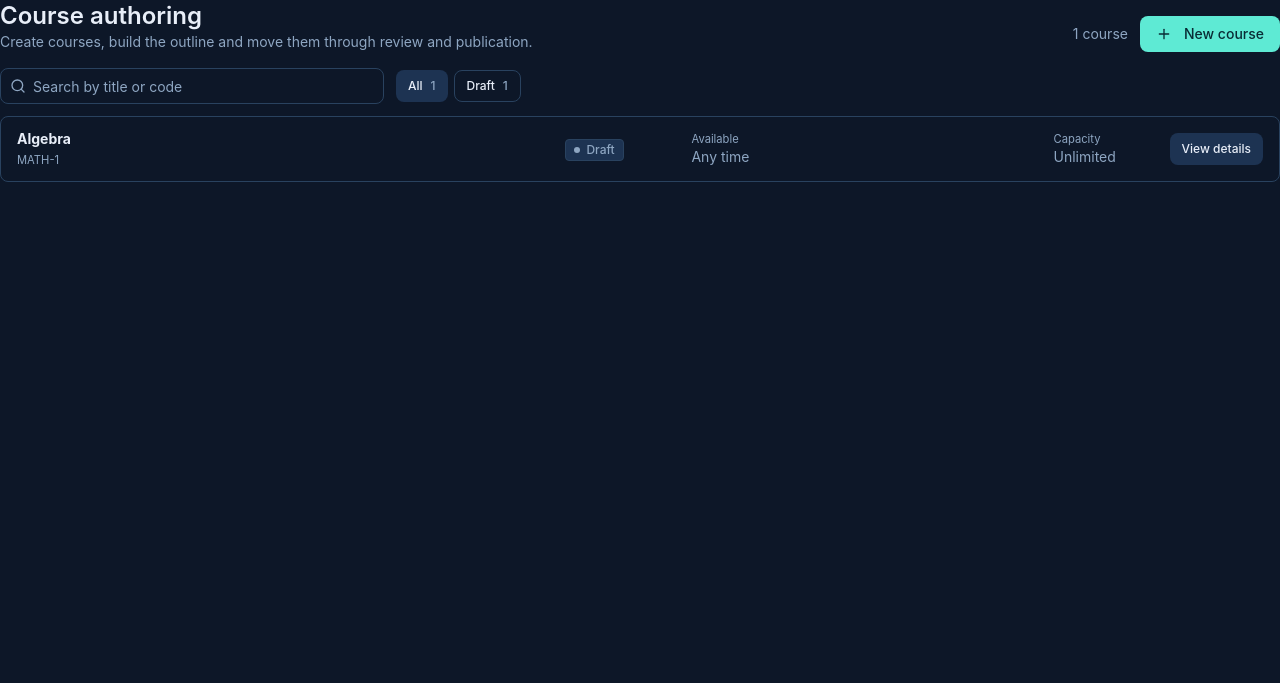
Test: CoursesPage authoring › holds back submission while the outline is incomplete
The width and height of the screenshot is (1280, 683).
Click the button with aria-label "View details for Algebra" at (1216, 149), box [1170, 133, 1263, 165]
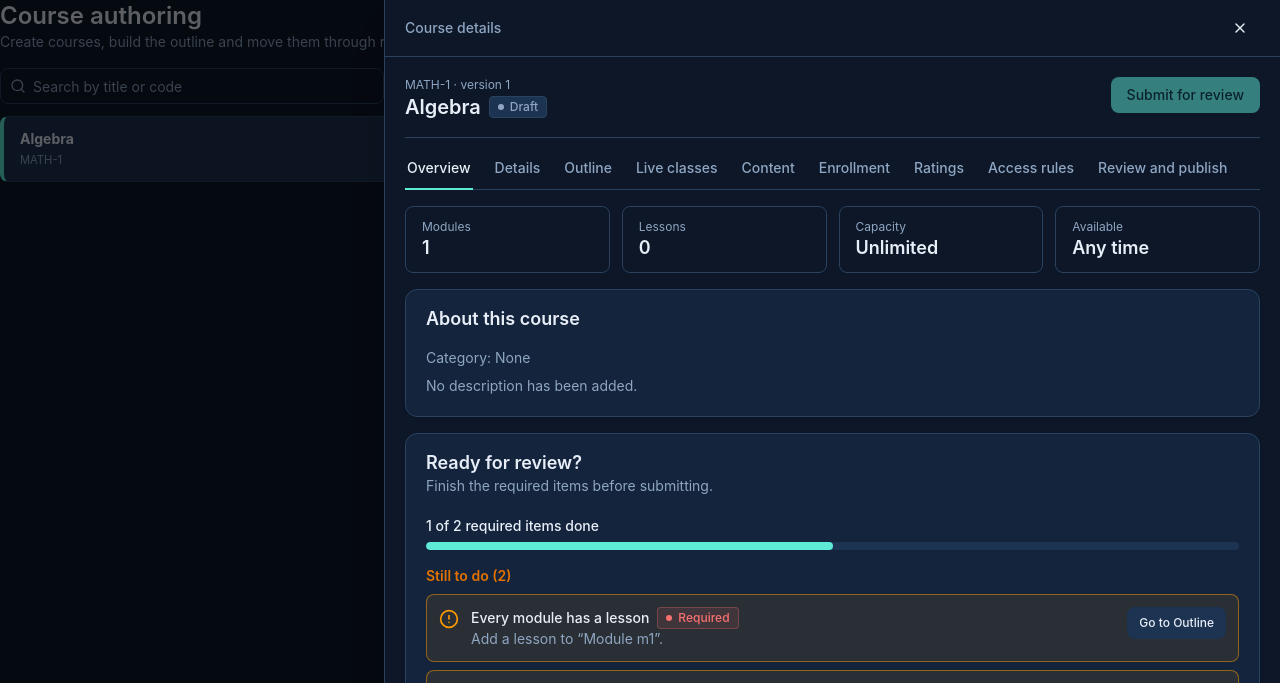
Expected: the text "Add a lesson to “Module m1”." is shown, [471, 630, 663, 646]
Expected: the button "Submit for review" is disabled, [1111, 77, 1260, 113]
